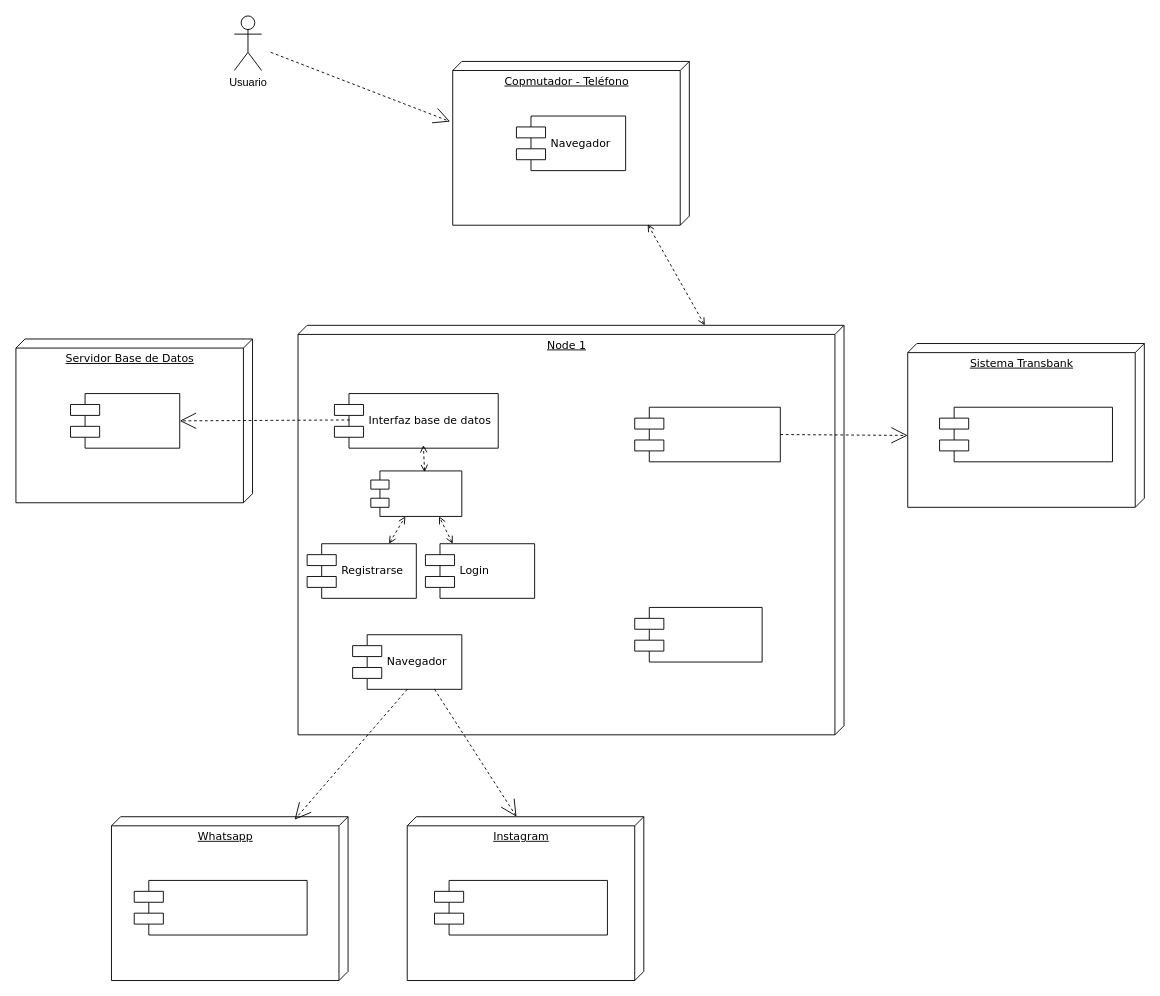
The diagram is 1160 pixels wide and 996 high, and some of its shapes have lost their labels. The shapes that lost their labels are listed below. From the top down, each one's centre as x and y in pixels, then its label:
At [125,420]: "MySQL".
At [707,434]: "Interfaz Transbank".
At [1025,434]: "Servidor web Transbank".
At [416,493]: "Controlador".
At [698,634]: "Boleta o factura".
At [220,907]: "Servidor web Whatsapp".
At [520,907]: "Servidor web Instagram".
